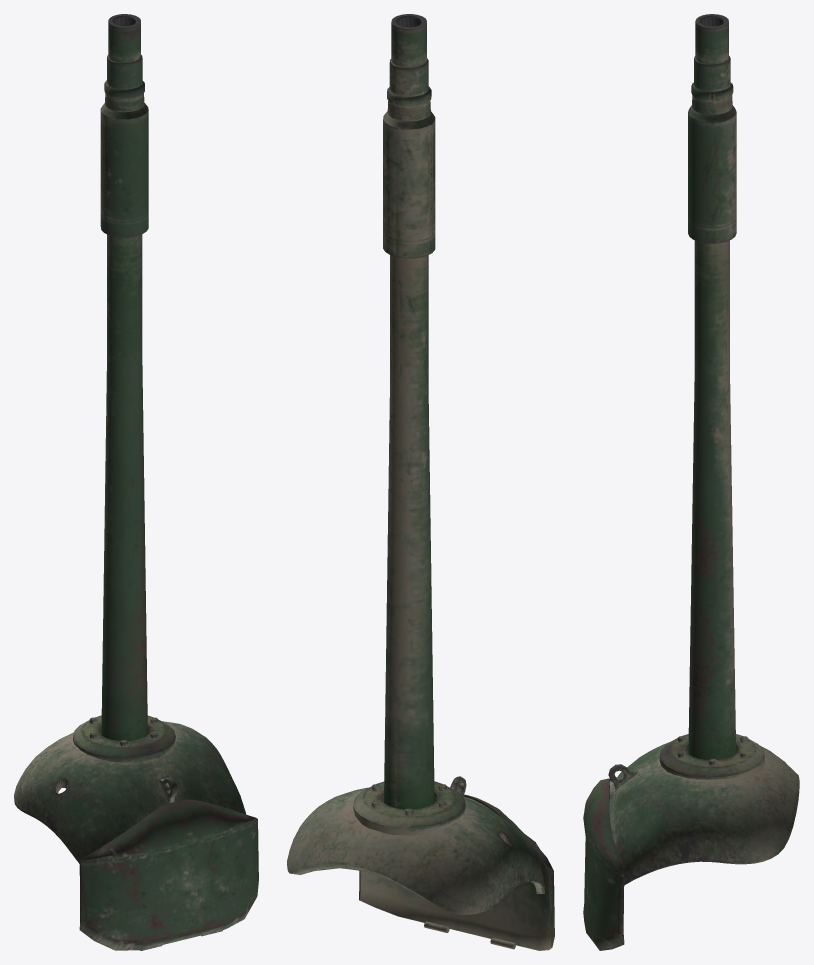
The model's file is Gun_02.glb.
The picture shows the model from 3 angles, left to right: view 1: azimuth 30°, elevation 25°; view 2: azimuth 150°, elevation 25°; view 3: azimuth 270°, elevation 25°; orthographic projection. The views are drawn at different scales.
Visible parts, largest first — view 1: set_0_group_0; view 2: set_0_group_0; view 3: set_0_group_0.
Boxes of the visible parts, x1,y1,x2,y2 form: set_0_group_0: (14, 14, 258, 950); set_0_group_0: (287, 14, 554, 950); set_0_group_0: (583, 14, 799, 950).
Bounding box in the file's own units: 0.8012 × 3.62 × 0.7867.
Materials: 1 (1 with a texture image).
